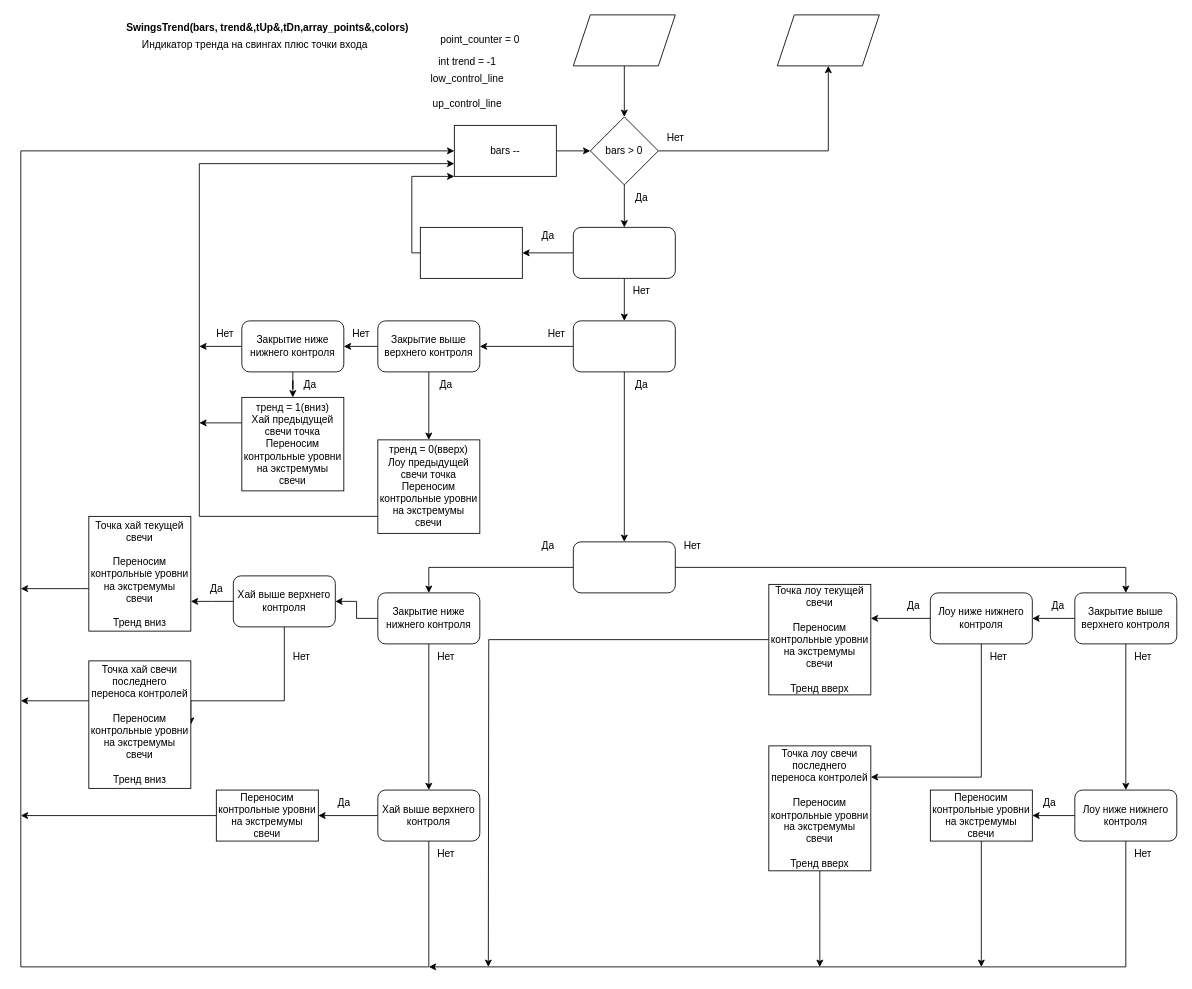
Some shapes in this 1192 by 989 pixel diagram are drawn without their labels. Here are the shapes that lost their labels. From the top down, the centre of each, then its label:
At point (623, 40): "Старт".
At point (827, 40): "Выход".
At point (470, 252): "назначим контрольные уровни".
At point (623, 252): "i= bars Свеча первая".
At point (623, 346): "Тренд определен".
At point (623, 567): "Тренд вверх".
